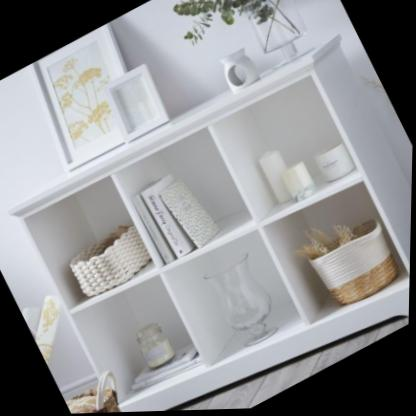Shelf: (0, 20, 415, 416)
